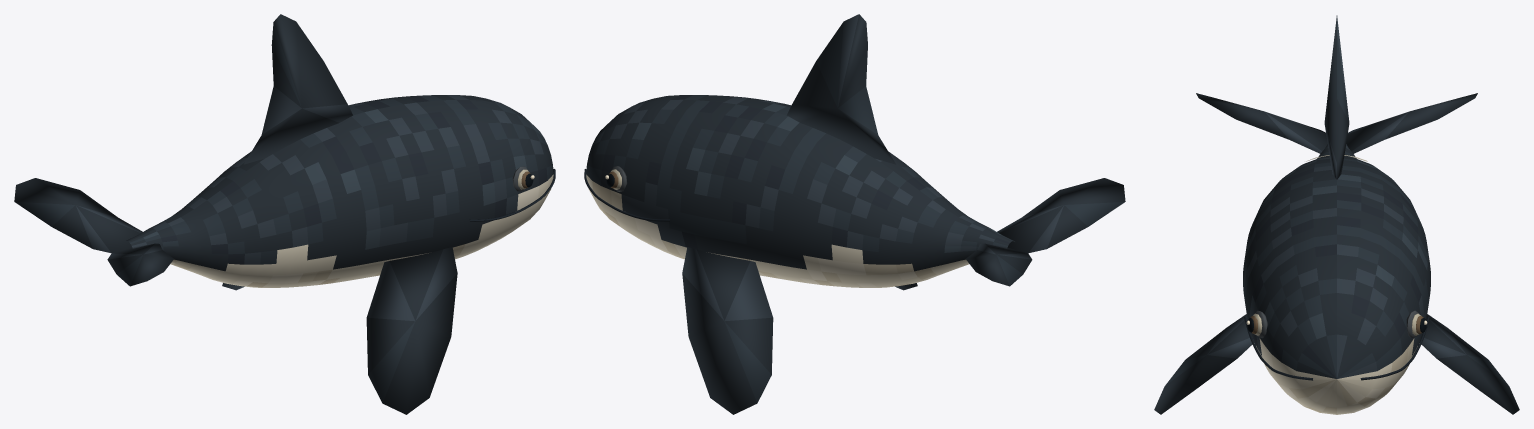
3 views of the same model, side by side, from view 1: azimuth 30°, elevation 25°; view 2: azimuth 150°, elevation 25°; view 3: azimuth 270°, elevation 25° (orthographic). The views are drawn at different scales.
Parts seen in each view (by area): view 1: 虎鲸 · 潮影; view 2: 虎鲸 · 潮影; view 3: 虎鲸 · 潮影.
Boxes of the visible parts, left/top/right/bottom form: 虎鲸 · 潮影: left=14, top=14, right=555, bottom=414; 虎鲸 · 潮影: left=584, top=14, right=1125, bottom=414; 虎鲸 · 潮影: left=1154, top=15, right=1519, bottom=414.
Size of the model in its own units: 1.8 by 1.26 by 1.12.
